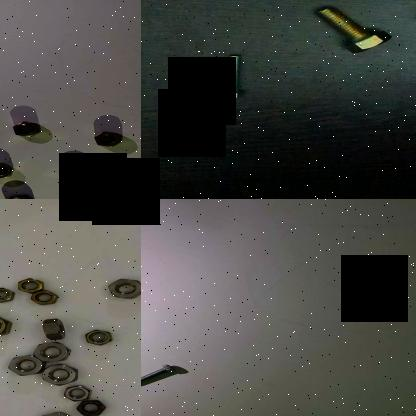Bolts: (306, 2, 400, 53), (212, 44, 260, 107), (141, 361, 184, 387)
NUTS: (3, 352, 48, 380), (30, 341, 74, 363), (40, 362, 78, 386), (104, 277, 141, 301), (38, 315, 66, 342), (59, 384, 92, 404), (72, 398, 108, 416), (58, 165, 95, 182), (10, 120, 44, 138), (16, 275, 46, 295), (27, 288, 60, 306), (82, 328, 114, 346), (92, 131, 126, 147), (0, 313, 14, 340), (0, 285, 16, 303), (0, 162, 13, 180), (33, 411, 74, 416), (1, 194, 38, 199)
